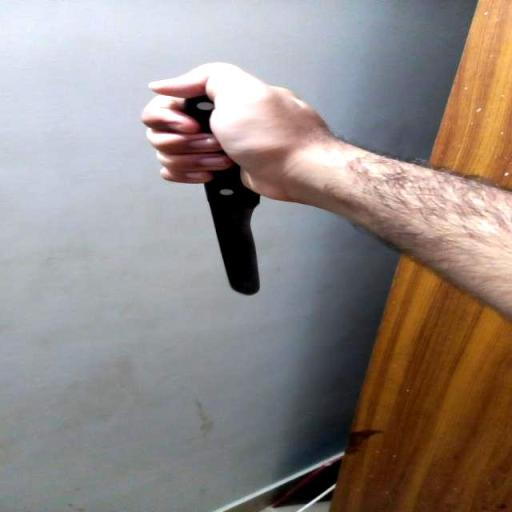knife: (142, 61, 342, 299)
